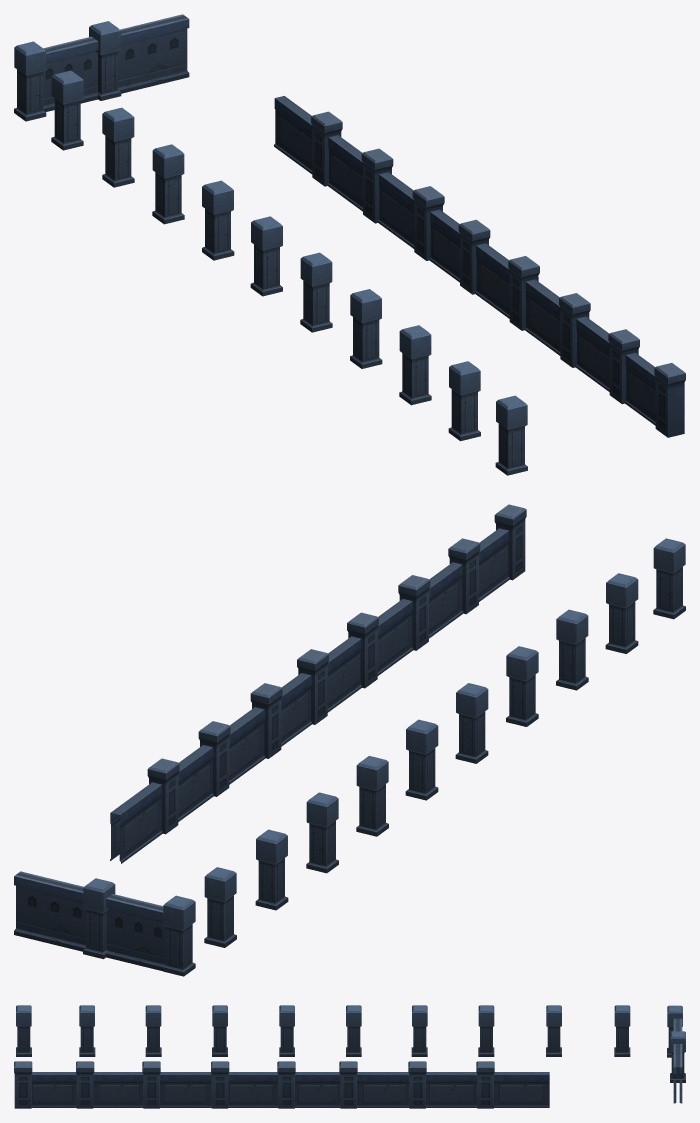
File: Area_07_2.fbx
3 views of the same model, one above another, from view 1: azimuth 30°, elevation 25°; view 2: azimuth 150°, elevation 25°; view 3: azimuth 270°, elevation 25° (orthographic). The views are drawn at different scales.
Visible parts, largest first — view 1: Area_07_2; view 2: Area_07_2; view 3: Area_07_2.
Part boxes in pixels (box(x1,y1,x2,y2)): Area_07_2: box(14, 14, 685, 475); Area_07_2: box(14, 504, 685, 976); Area_07_2: box(14, 1005, 685, 1108).
Bounding box in the file's own units: 1900 × 701 × 9267.
